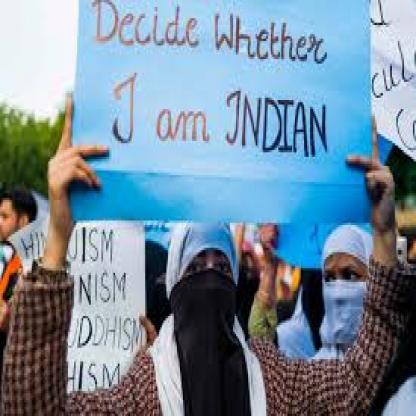BANNER: (68, 0, 380, 273), (67, 232, 144, 393)
